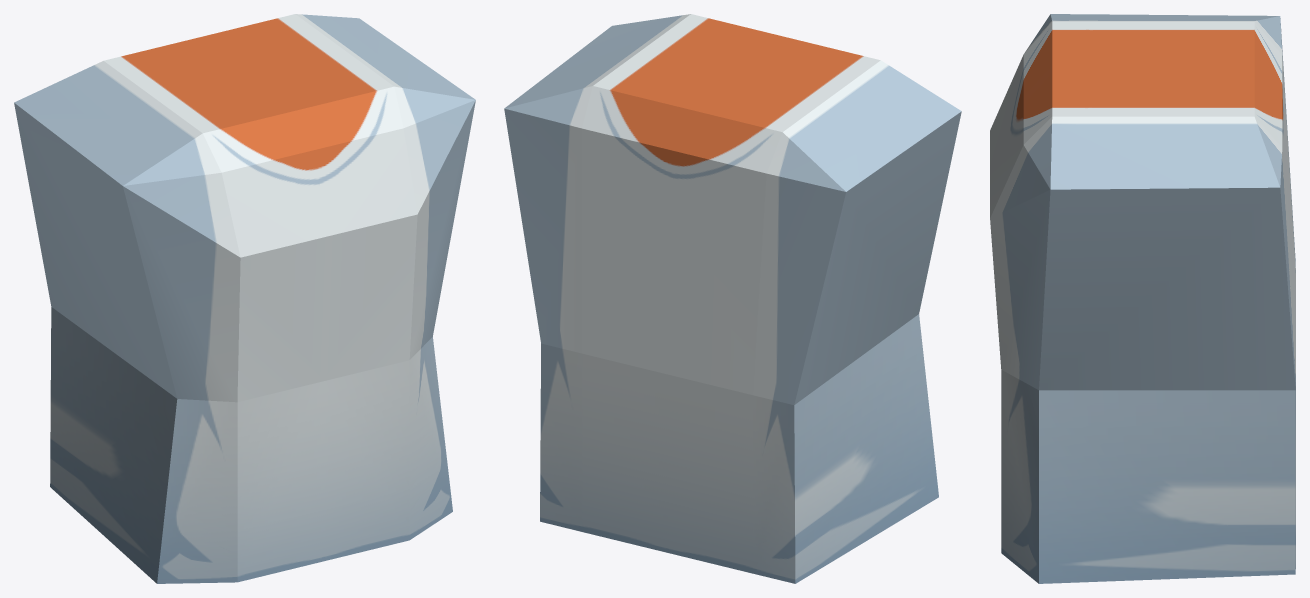
The model's file is Base Cloth.fbx.
The picture shows the model from 3 angles, left to right: view 1: azimuth 30°, elevation 25°; view 2: azimuth 150°, elevation 25°; view 3: azimuth 270°, elevation 25°; orthographic projection. The views are drawn at different scales.
Visible parts, largest first — view 1: Cloth_Body; view 2: Cloth_Body; view 3: Cloth_Body.
Part boxes in pixels (x1,y1,x2,y2): Cloth_Body: (14, 14, 475, 583); Cloth_Body: (504, 14, 961, 583); Cloth_Body: (990, 14, 1295, 583).
Bounding box in the file's own units: 32.79 × 38.43 × 24.14.
Materials: 1 (1 with a texture image).
